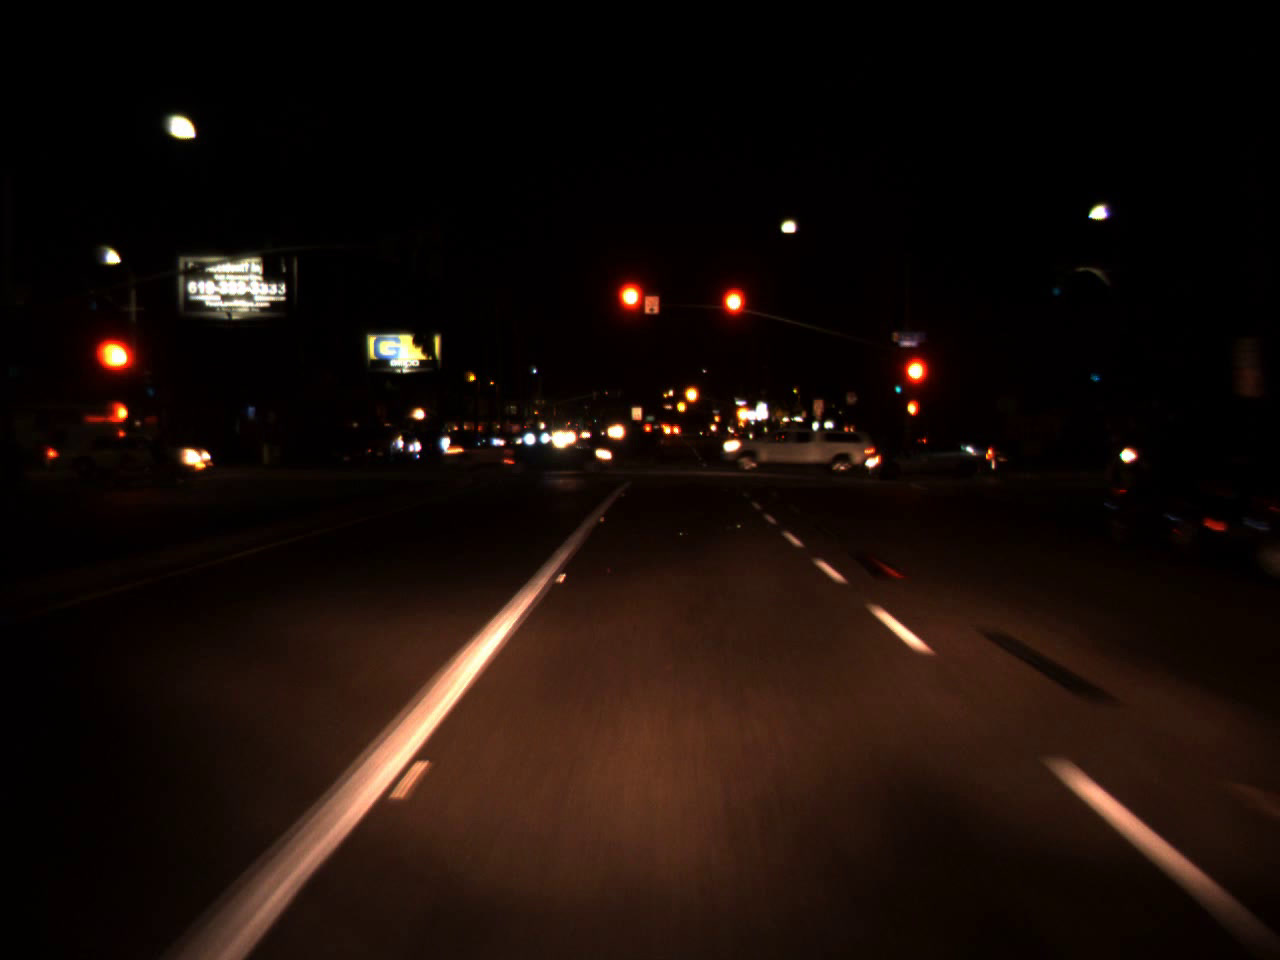stop: (97, 336, 140, 403), (614, 277, 647, 347), (900, 351, 931, 421), (719, 284, 749, 348)
warning: (681, 375, 700, 412), (734, 394, 752, 429), (678, 395, 687, 415), (714, 411, 720, 426)
